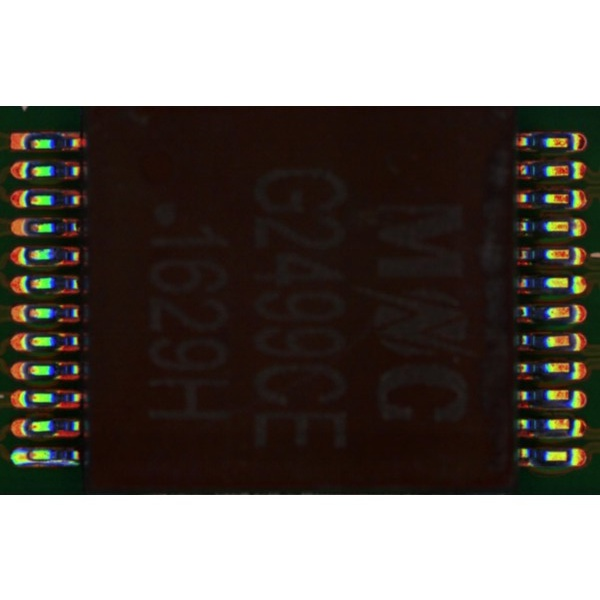Bad_podu: (20, 451, 36, 460)
Bad_qiaojiao: (33, 458, 80, 464)
